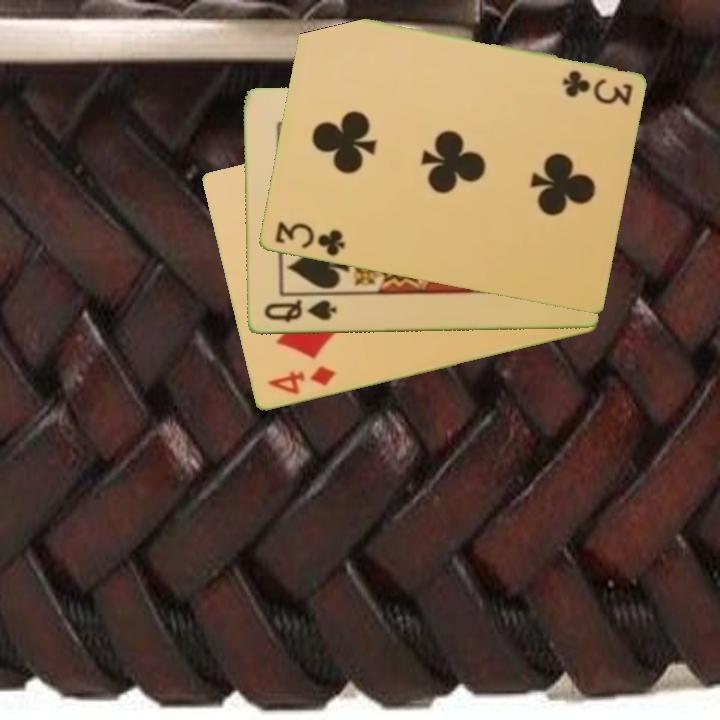3c: (271, 218, 348, 260), (558, 67, 635, 108)
4d: (263, 362, 339, 398)
Qs: (260, 296, 339, 326)
